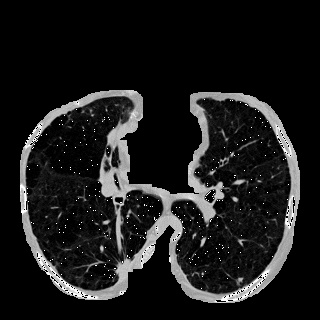PN: (238, 278, 242, 282)
